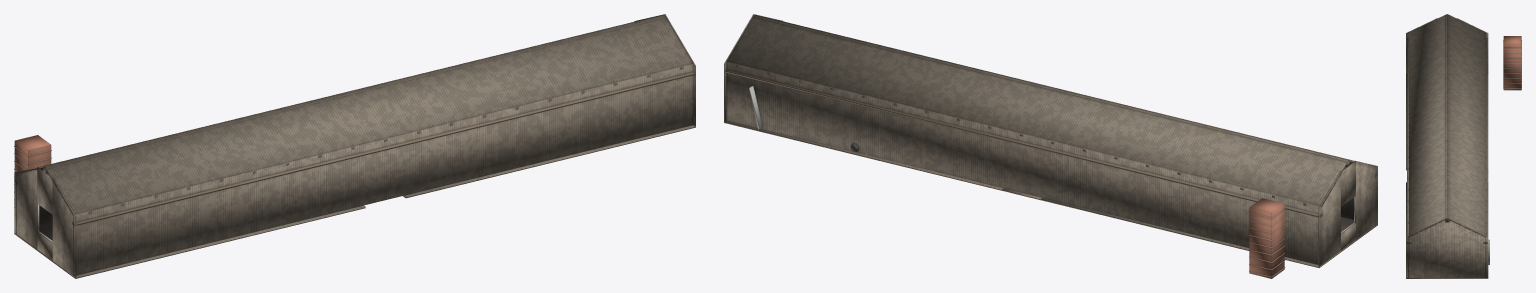
File: house_int_attic.glb
3 views of the same model, side by side, from view 1: azimuth 30°, elevation 25°; view 2: azimuth 150°, elevation 25°; view 3: azimuth 270°, elevation 25° (orthographic). The views are drawn at different scales.
Parts seen in each view (by area): view 1: house_int_attic; view 2: house_int_attic; view 3: house_int_attic.
Boxes of the visible parts, x1,y1,x2,y2 form: house_int_attic: (14,14,695,278); house_int_attic: (724,14,1377,278); house_int_attic: (1406,14,1521,278).
Bounding box in the file's own units: 17 × 2.39 × 4.08.
1 material, 1 textured.
